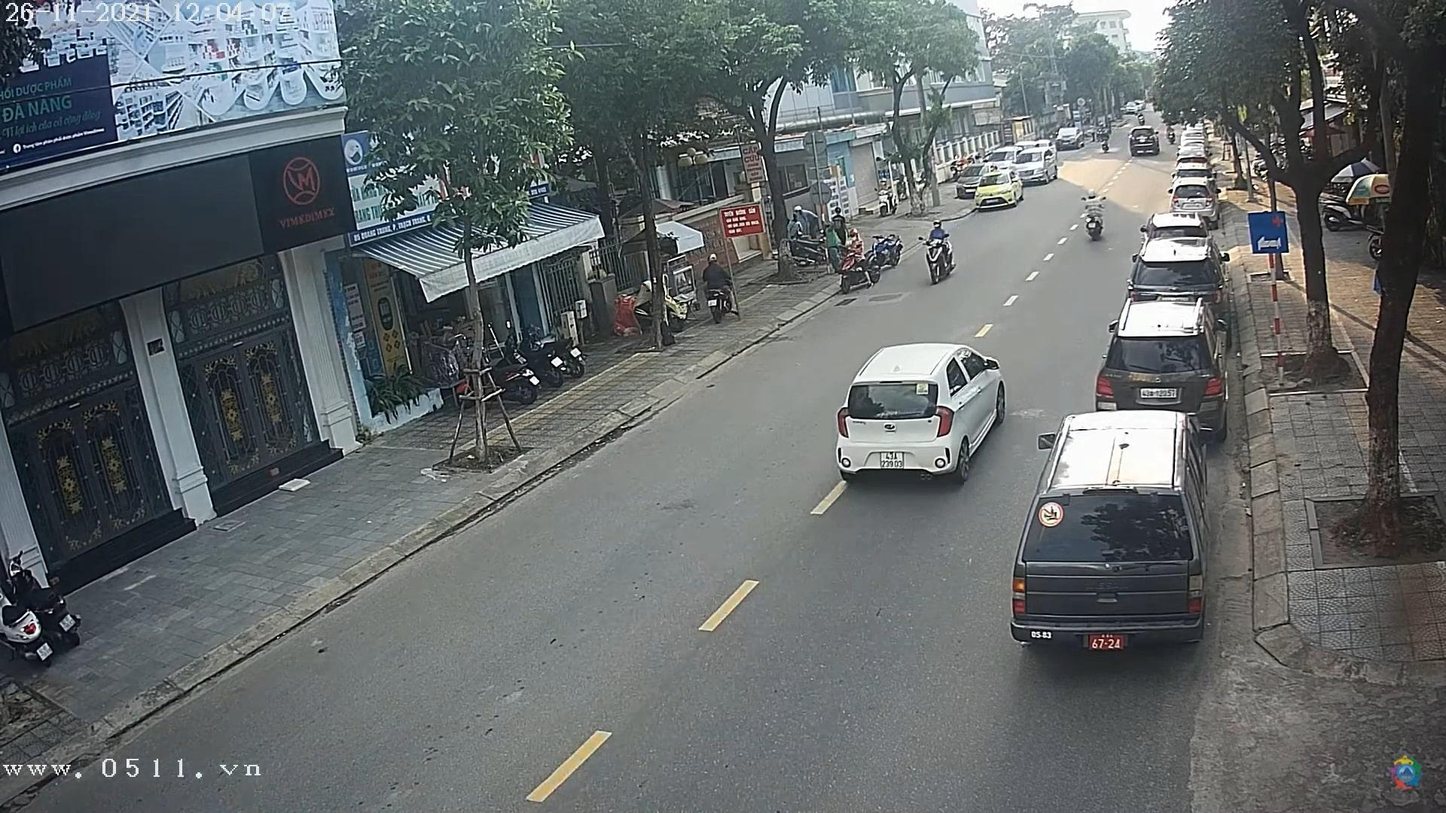car: (1016, 411, 1210, 650), (828, 343, 1012, 482), (1097, 302, 1227, 421), (1128, 238, 1226, 303), (1170, 185, 1219, 217), (1057, 126, 1089, 150), (1131, 130, 1159, 157)
motorbike: (925, 236, 959, 286), (1085, 207, 1107, 242)
